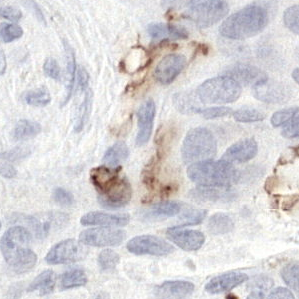Lymphocyte: (93, 167, 125, 198)
